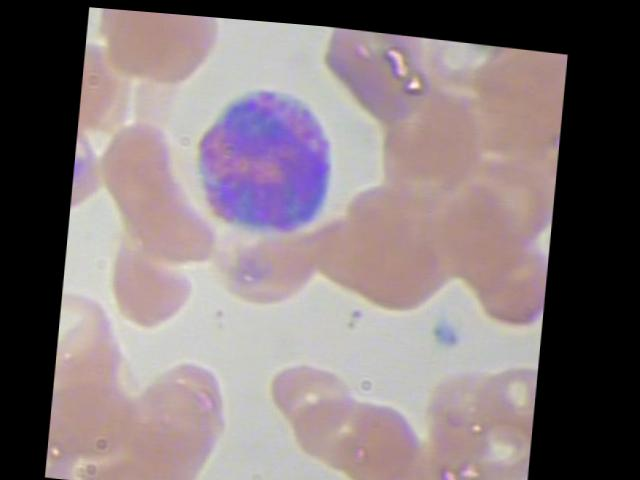Platelets: (426, 310, 465, 346)
Red Blood Cells: (96, 6, 227, 98), (219, 218, 331, 316), (106, 236, 205, 333), (266, 341, 365, 438), (376, 452, 473, 479)
White Blood Cells: (186, 69, 345, 244)
